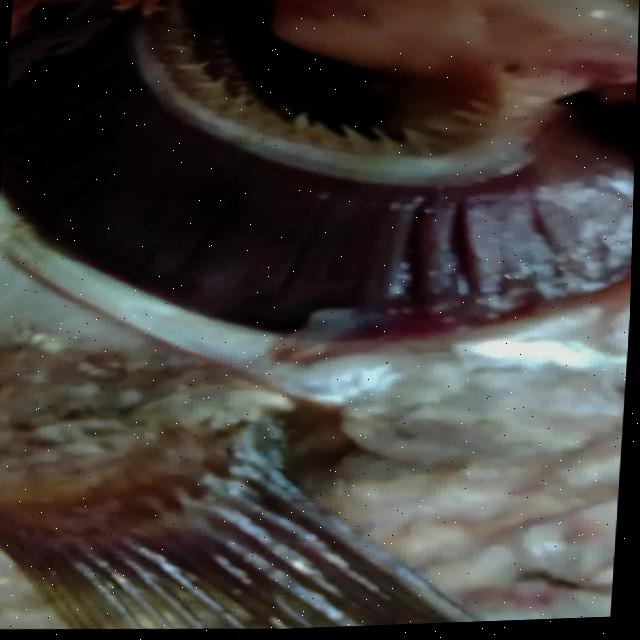Non-Fresh: (14, 4, 623, 377)
